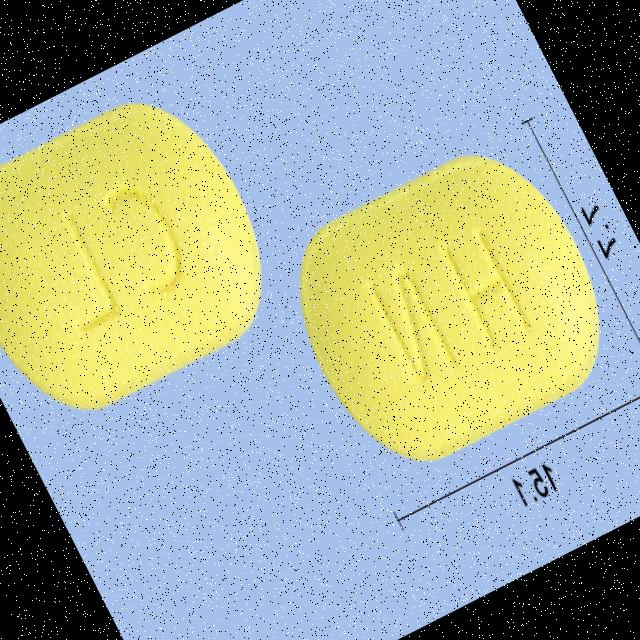Cyclin: (260, 120, 638, 488), (0, 71, 301, 442)
